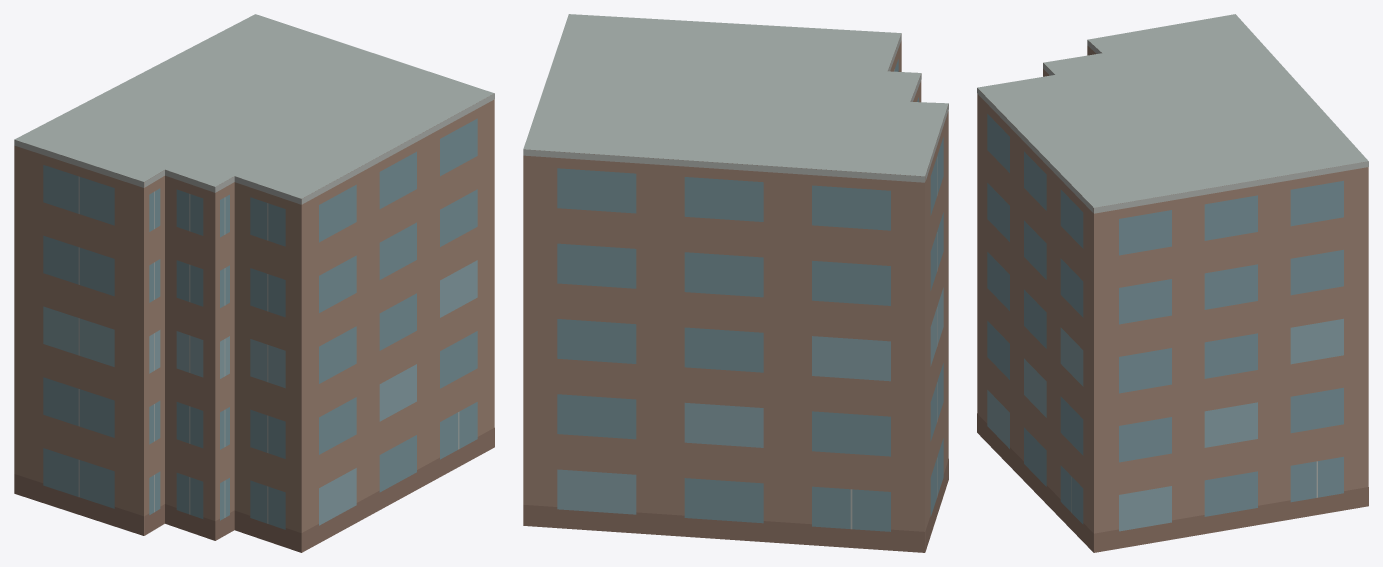
File: survey-upis-32931596.glb
The picture shows the model from 3 angles, left to right: view 1: azimuth 30°, elevation 25°; view 2: azimuth 150°, elevation 25°; view 3: azimuth 270°, elevation 25°; orthographic projection. The views are drawn at different scales.
Parts seen in each view (by area): view 1: survey-upis-32931596.tmp; view 2: survey-upis-32931596.tmp; view 3: survey-upis-32931596.tmp.
Part boxes in pixels (x1,y1,x2,y2): survey-upis-32931596.tmp: [14, 14, 494, 552]; survey-upis-32931596.tmp: [523, 14, 948, 552]; survey-upis-32931596.tmp: [977, 14, 1368, 552].
Bounding box in the file's own units: 17.49 × 14.5 × 14.93.
